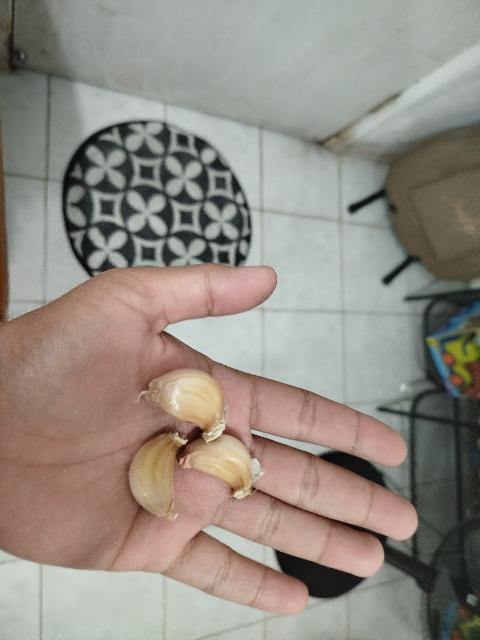garlic: (134, 368, 228, 442), (178, 434, 266, 500), (128, 431, 188, 522)
